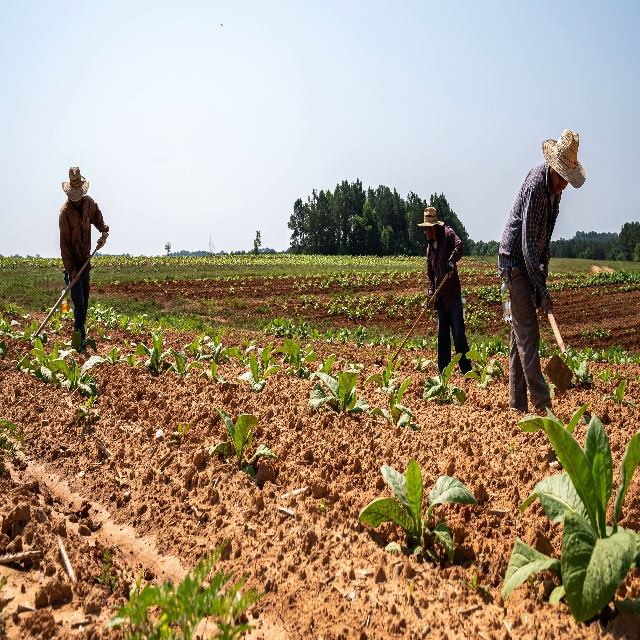Guantes: (96, 231, 109, 250), (446, 259, 454, 278), (425, 293, 433, 310)
Sin_guantes: (540, 293, 554, 320), (71, 269, 81, 283)
